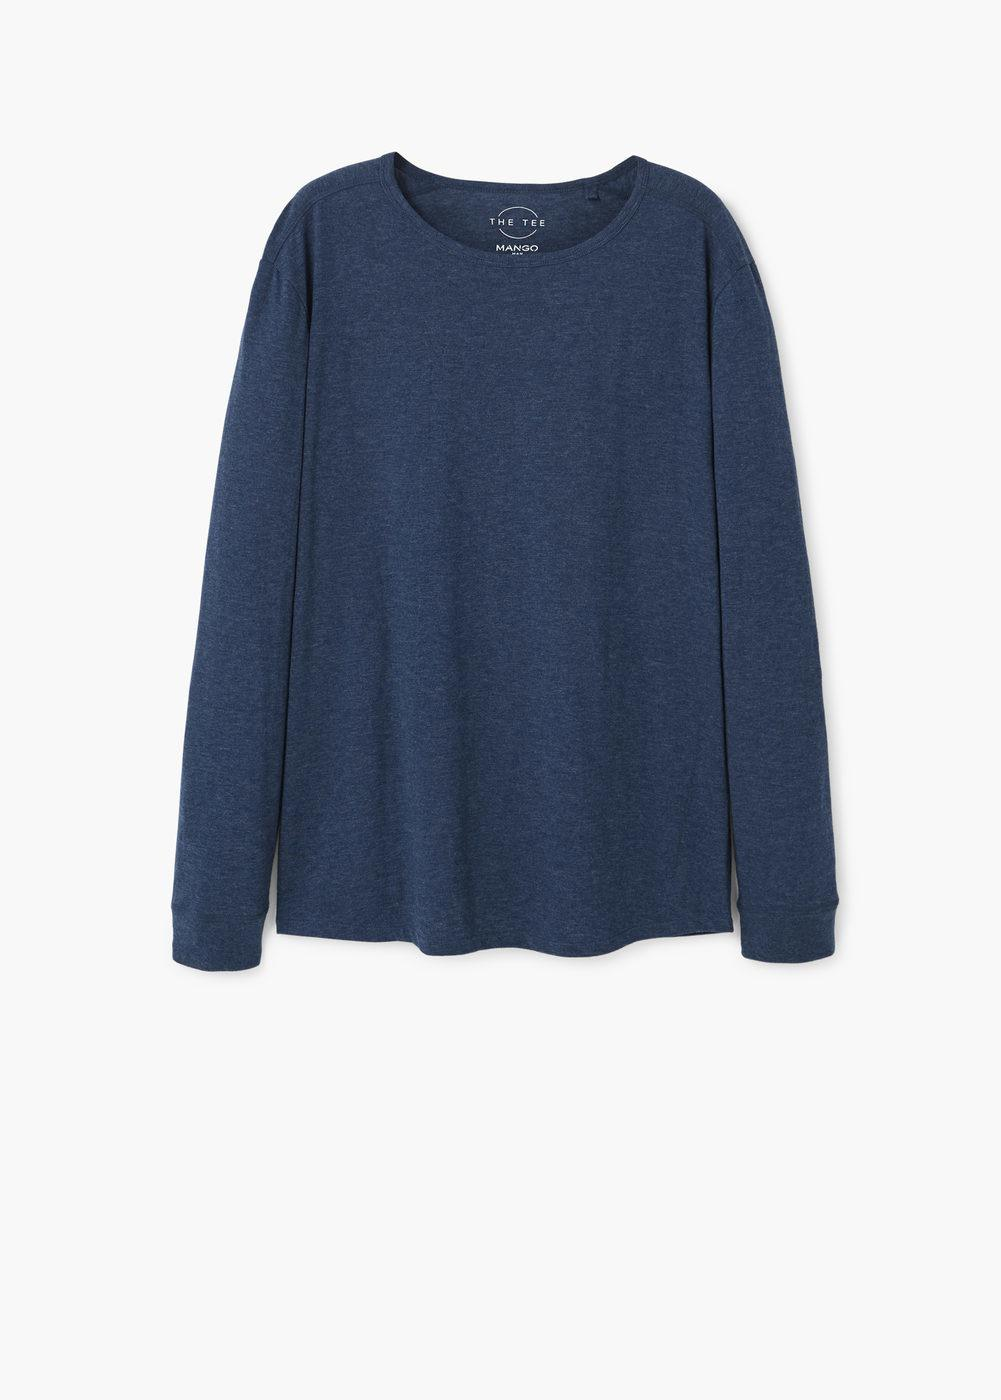teeshirt: (153, 135, 877, 1312)
